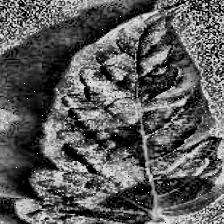spider mites: (16, 1, 224, 224)
